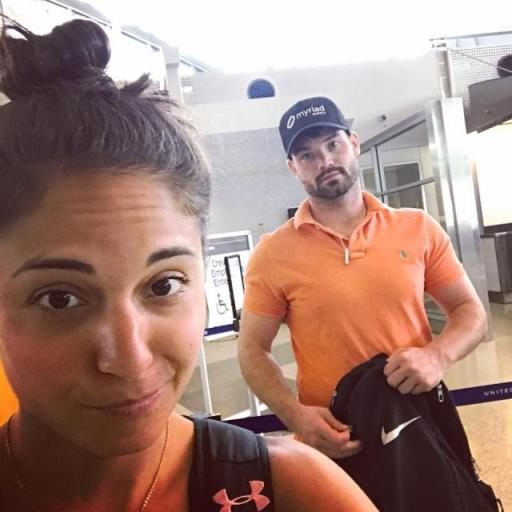Under Armour: (210, 476, 270, 511)
